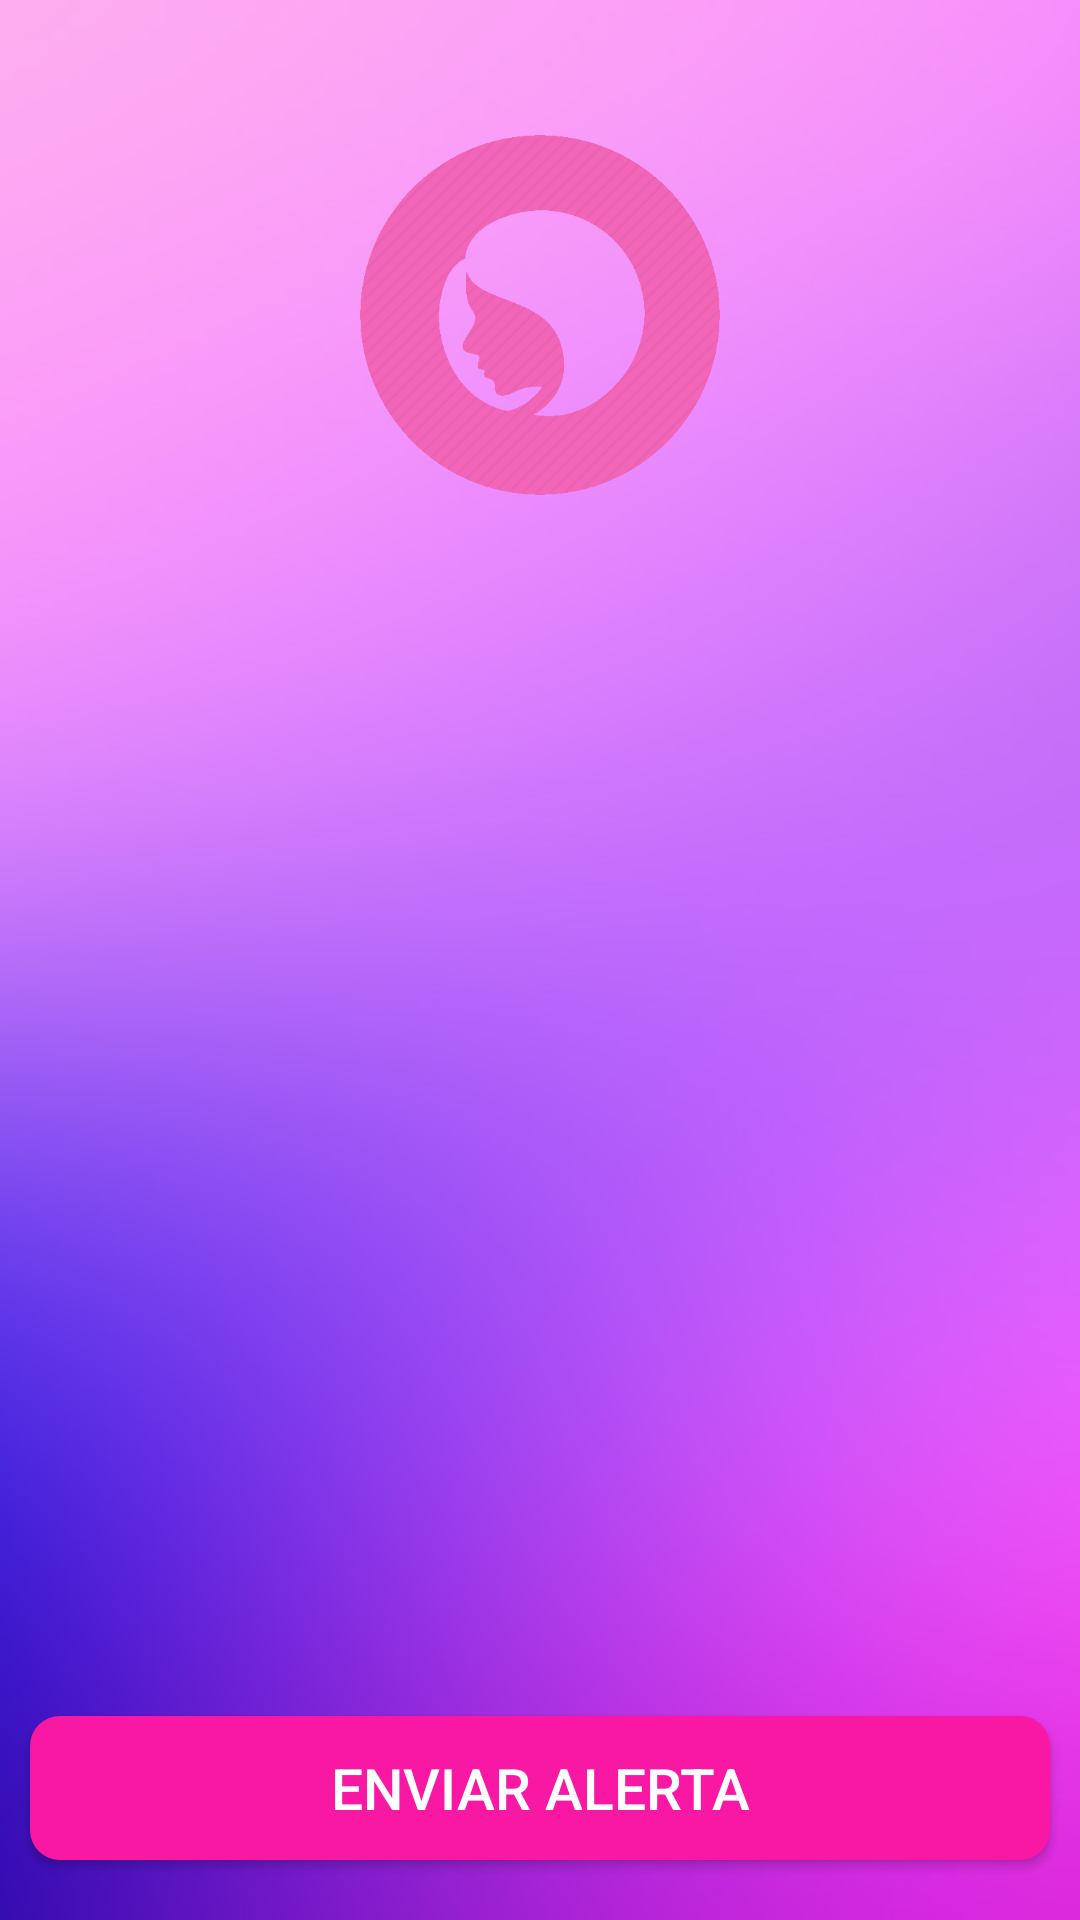

Where icons sit on this 1080px x 1920px app screen, as (x1, y1, x2, y2):
woman profile: (360, 135, 720, 495)
